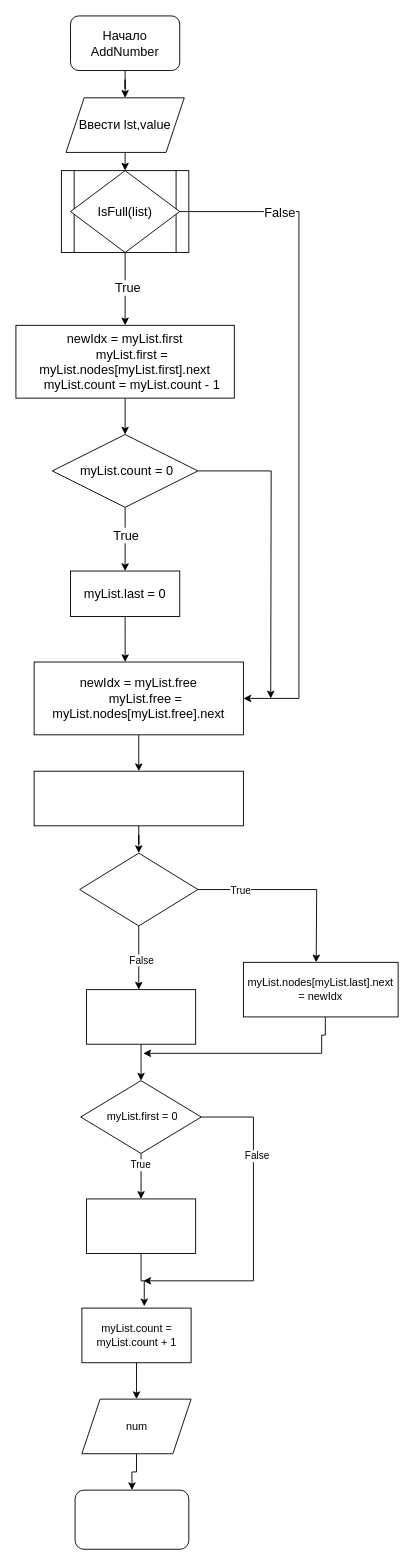
Image size: 414x1565. Some labels were removed from this diagram. The centre of each missing label's shape, as x and y in pixels:
myList.first = newIdx: [141,1226]
myList.last <> 0: [138,889]
myList.last = newIdx: [141,1016]
myList.nodes[newIdx].data = num myList.nodes[newIdx].next = 0: [138,798]
Конец AddNumner: [131,1519]
